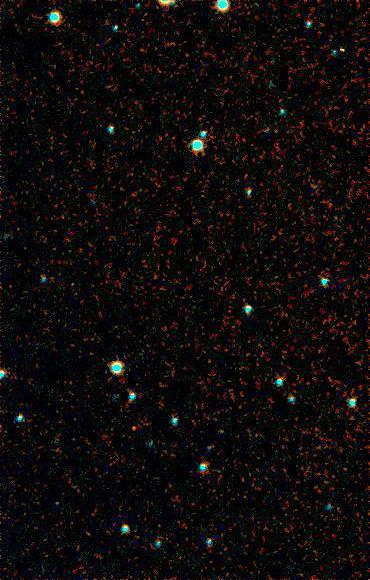star: (120, 409, 150, 439)
